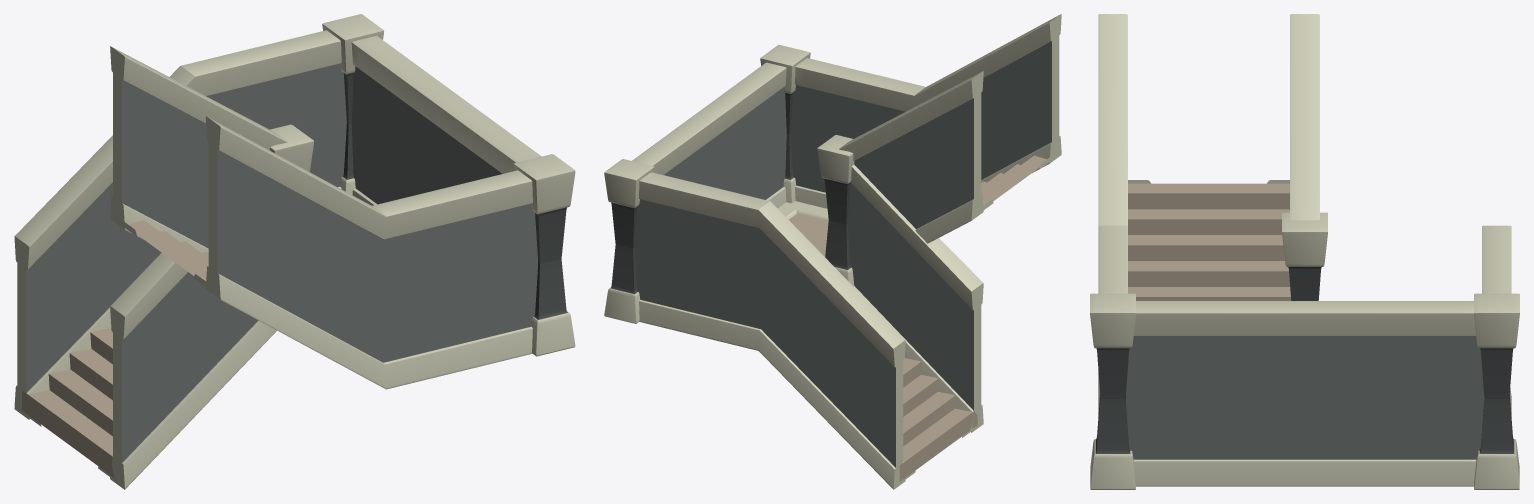
Rendered from StairSpiral6.fbx.
3 views of the same model, side by side, from view 1: azimuth 30°, elevation 25°; view 2: azimuth 150°, elevation 25°; view 3: azimuth 270°, elevation 25° (orthographic). The views are drawn at different scales.
Parts seen in each view (by area): view 1: Pillar.009; view 2: Pillar.009; view 3: Pillar.009.
Boxes of the visible parts, x1=… form: Pillar.009: x1=14, y1=14, x2=575, y2=489; Pillar.009: x1=604, y1=14, x2=1061, y2=489; Pillar.009: x1=1090, y1=14, x2=1519, y2=489.
Bounding box in the file's own units: 848 × 1000 × 896.
